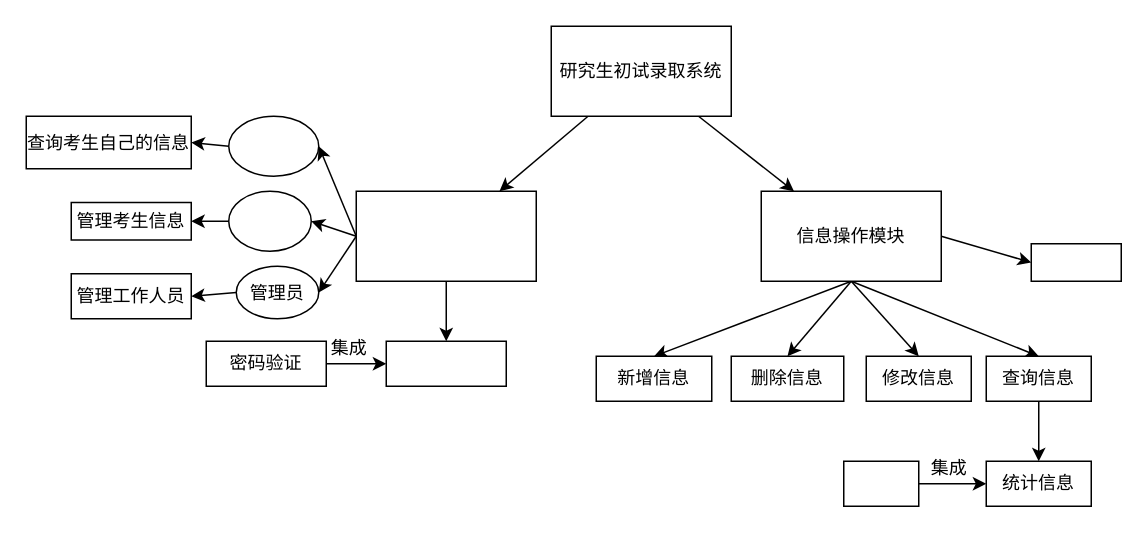
Image size: 1148x533. Some labels were removed from this diagram. The box of each missing label's shape, as (x1, y1, x2, y2) in pixels:
信息排序: (842, 460, 919, 506)
存储信息: (1030, 242, 1121, 281)
工作人员: (227, 190, 311, 251)
登录注册: (385, 340, 506, 386)
角色管理模块: (355, 190, 536, 281)
访客: (227, 115, 319, 176)
